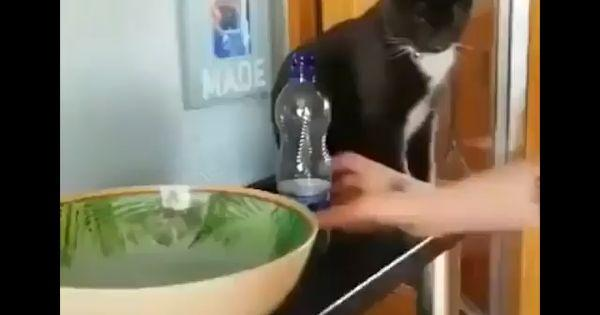plastic_bottle: (272, 50, 342, 261)
